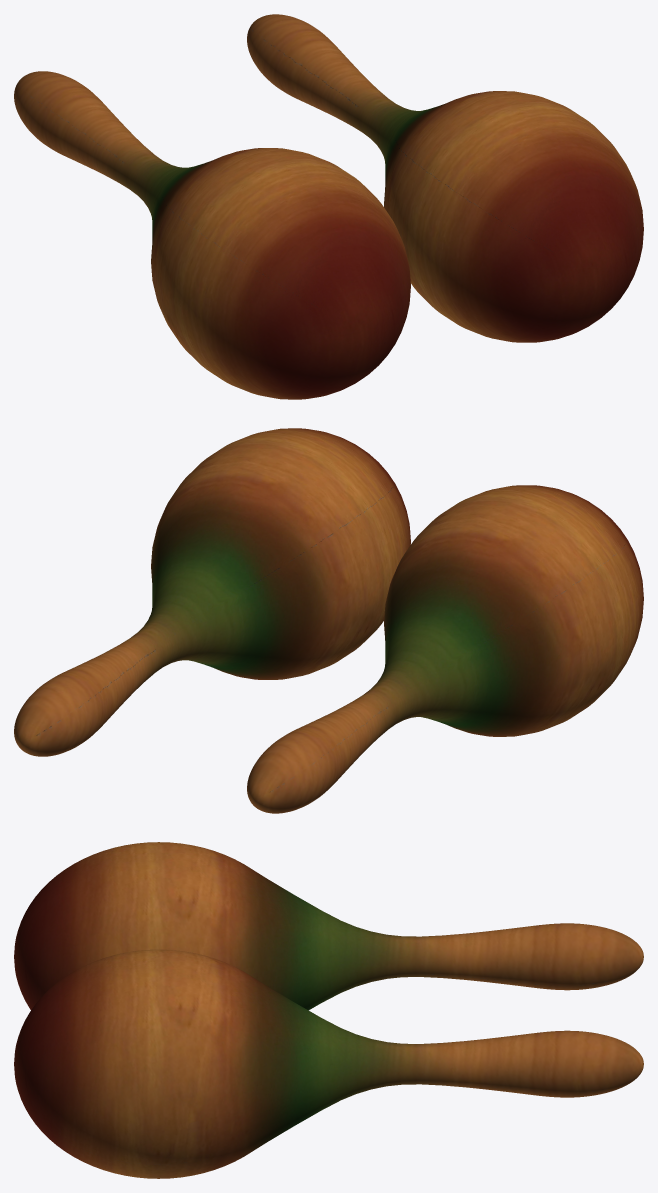
Rendered from 10388_Maracas.obj.
The picture shows the model from 3 angles, top to bottom: view 1: azimuth 30°, elevation 25°; view 2: azimuth 150°, elevation 25°; view 3: azimuth 270°, elevation 25°; orthographic projection. The views are drawn at different scales.
Visible parts, largest first — view 1: Maracas; view 2: Maracas; view 3: Maracas.
Boxes of the visible parts, x1,y1,x2,y2 form: Maracas: [14, 14, 643, 399]; Maracas: [14, 428, 643, 813]; Maracas: [14, 842, 643, 1178].
Bounding box in the file's own units: 14.48 × 6.87 × 18.87.
1 material, 1 textured.
